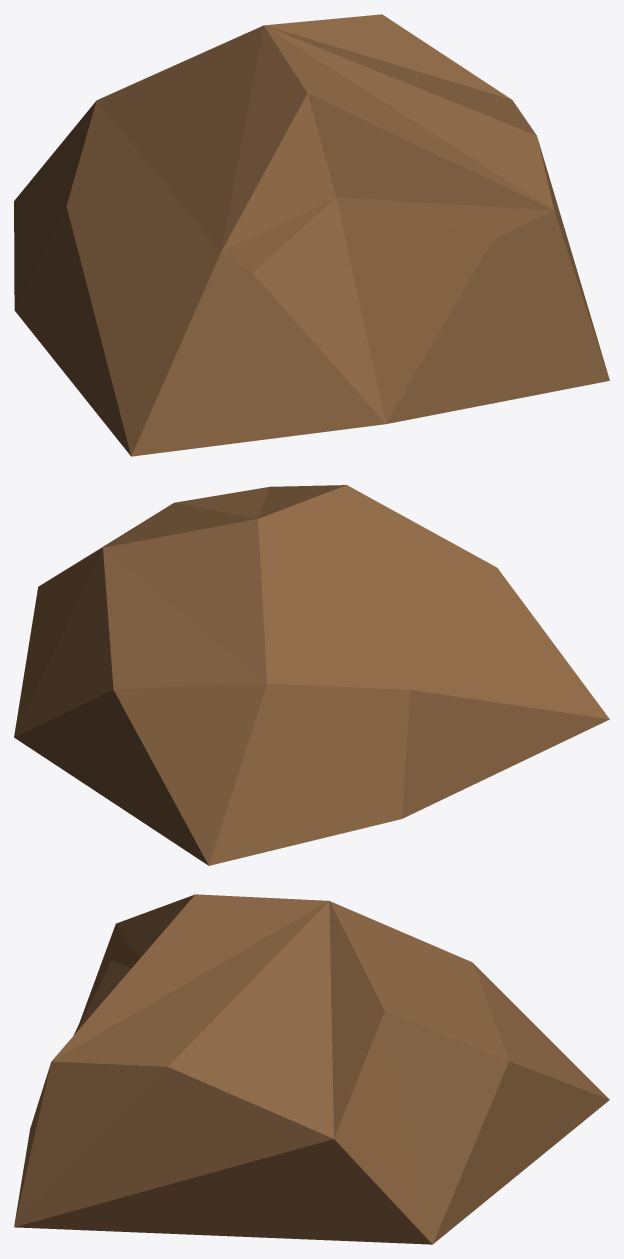
Rendered from Rock_5_Light_Brown.fbx.
The picture shows the model from 3 angles, top to bottom: view 1: azimuth 30°, elevation 25°; view 2: azimuth 150°, elevation 25°; view 3: azimuth 270°, elevation 25°; orthographic projection. The views are drawn at different scales.
Parts seen in each view (by area): view 1: Rock_5_Light_Brown; view 2: Rock_5_Light_Brown; view 3: Rock_5_Light_Brown.
Part boxes in pixels (x1,y1,x2,y2): Rock_5_Light_Brown: (14, 14, 609, 456); Rock_5_Light_Brown: (14, 485, 609, 865); Rock_5_Light_Brown: (14, 894, 609, 1244).
Bounding box in the file's own units: 195 × 111 × 211.
